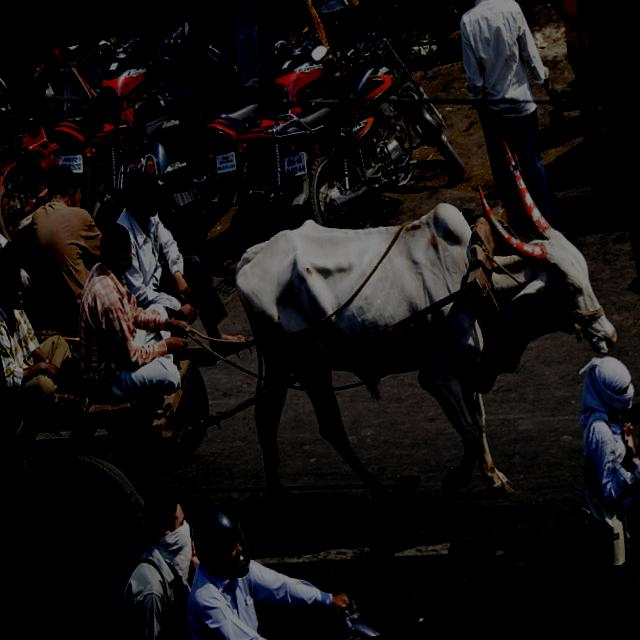Vehicle: (241, 0, 473, 248), (175, 0, 384, 249), (92, 9, 291, 263), (26, 27, 198, 220), (0, 42, 127, 264), (284, 543, 404, 640), (561, 487, 640, 592), (0, 59, 22, 156)
